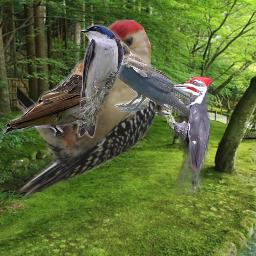Crow: (97, 41, 190, 116)
Swallow: (0, 57, 113, 139), (75, 24, 124, 138)
Woodpecker: (17, 19, 157, 204), (153, 76, 214, 195)
